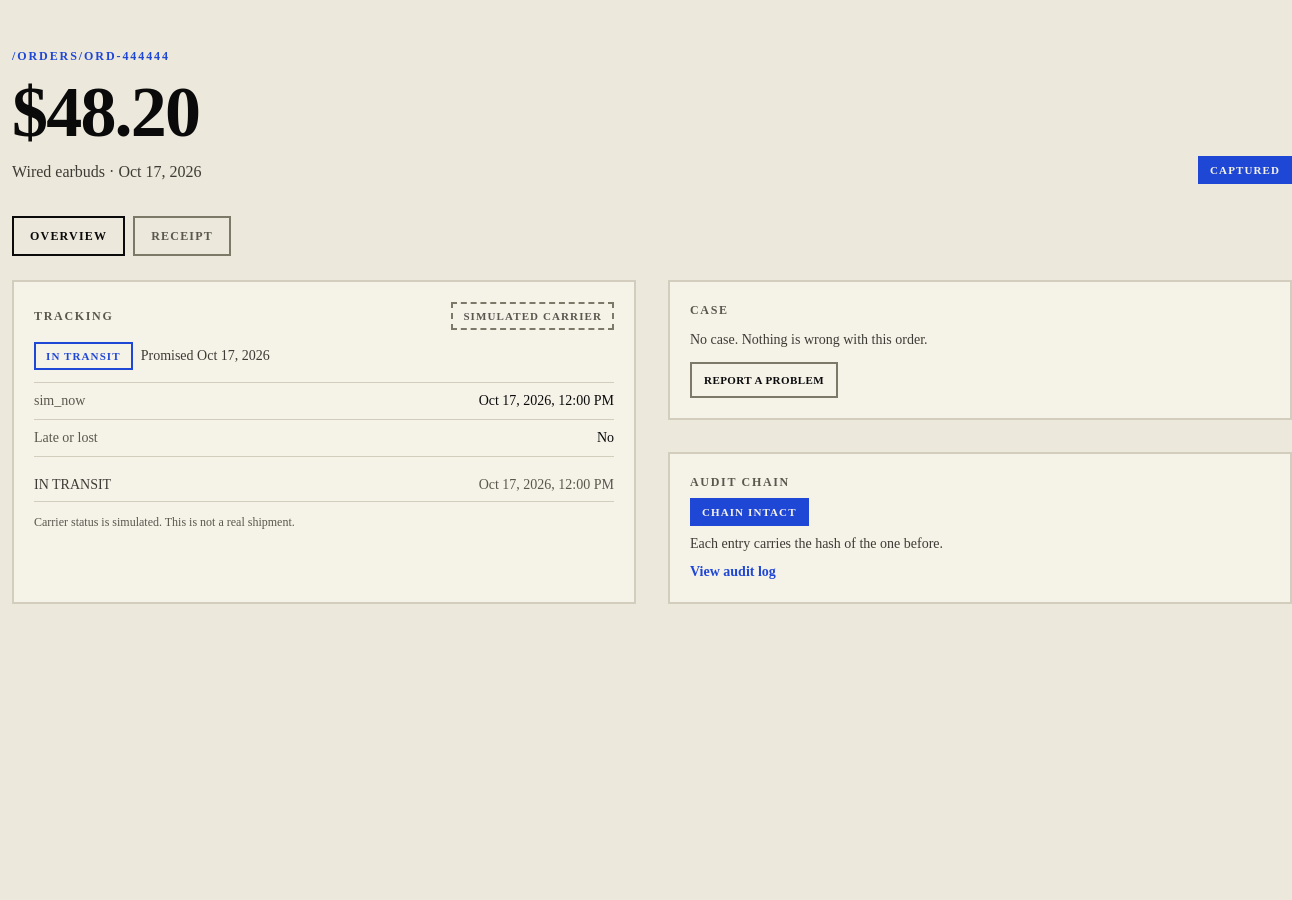
Test: OrderDetail › shows the receipt with every disclosure exactly as sent
Click the tab "Receipt": [182, 236] box [133,216,231,256]
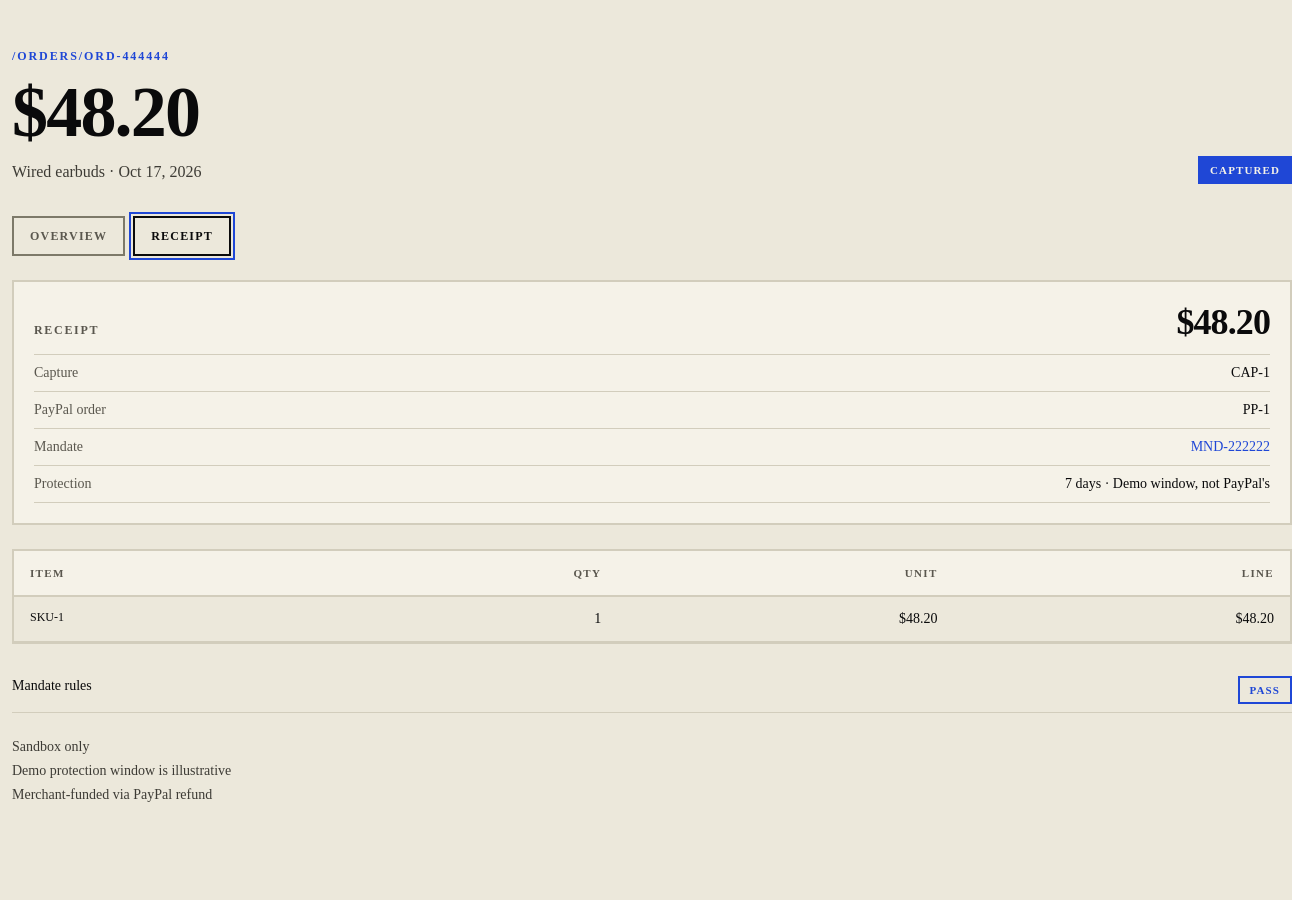
Result: the text "CAP-1" is shown at [1231,365,1270,380]
Result: the list item "Sandbox only" is shown at [12,739,89,754]
Result: the list item "Demo protection window is illustrative" is shown at [12,763,231,778]
